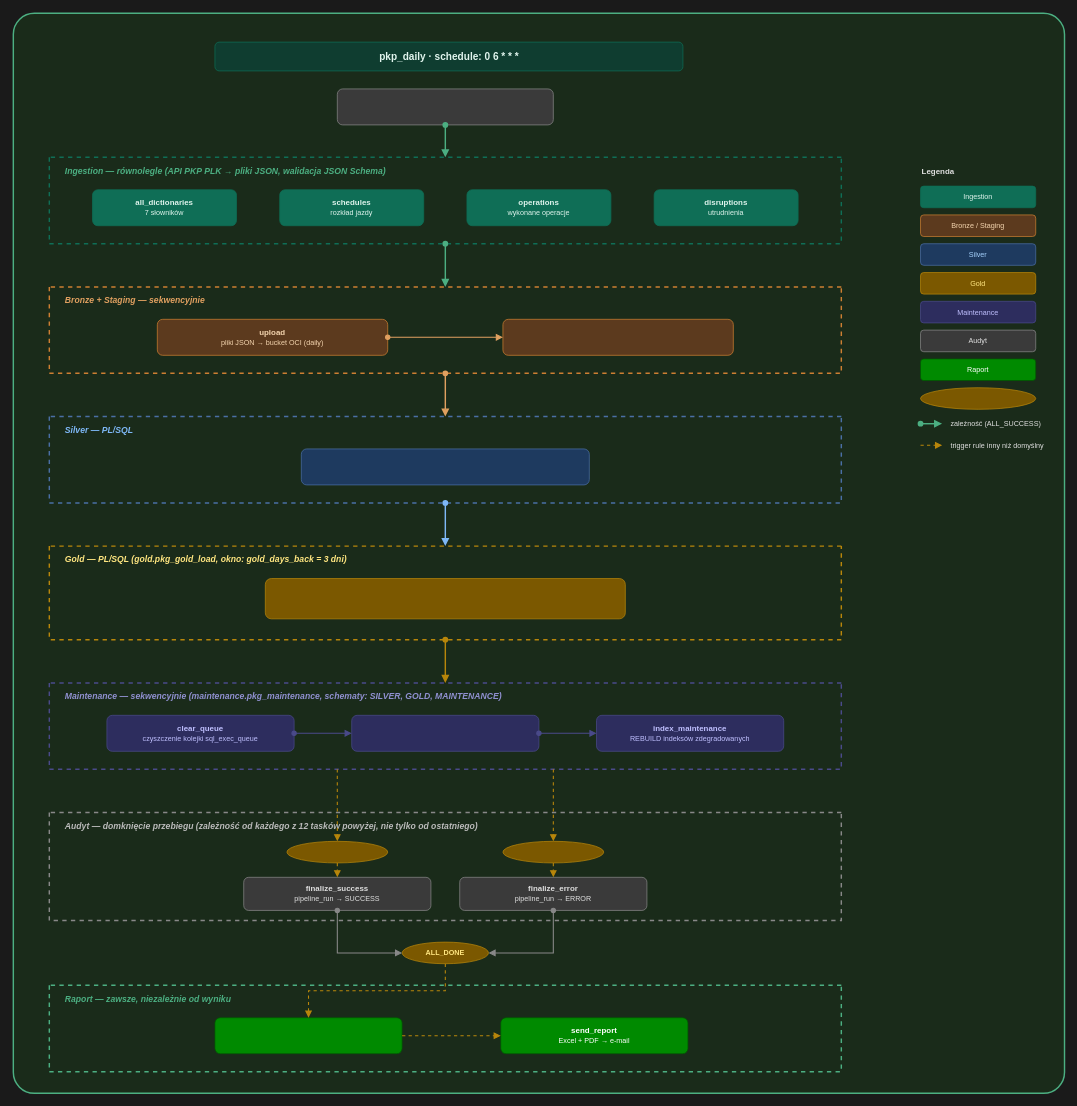
The diagram is 1077 pixels wide and 1106 high, and some of its shapes have lost their labels. The shapes that lost their labels are listed below. From the top down, each one's box as (x1, y1, x2, y2) in pixels, then its label:
(337, 88, 553, 125): set_run_date start audytu: maintenance.pipeline_run
(502, 319, 733, 355): prepare_stg bucket → stg.land_* (kolumna JSON)
(920, 387, 1036, 409): trigger rule
(301, 448, 589, 485): silver_load silver.pkg_silver_load.p_load_all
(265, 578, 625, 619): gold_load p_load_dimensions → p_load_facts_daily → p_load_facts_monthly
(351, 715, 539, 751): table_maintenance MOVE tabel o niskim wypełnieniu bloków
(286, 841, 388, 863): ALL_SUCCESS
(502, 841, 604, 863): ONE_FAILED
(214, 1017, 402, 1054): prepare_report sprzątanie starych plików raportu
